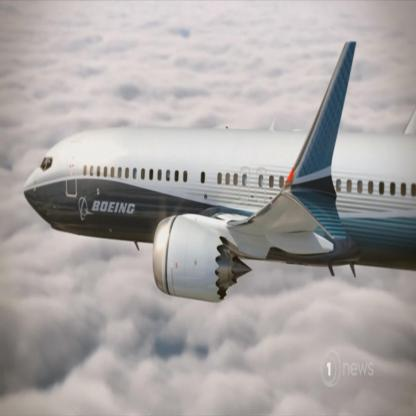CIV_Plane: (22, 36, 415, 305)
